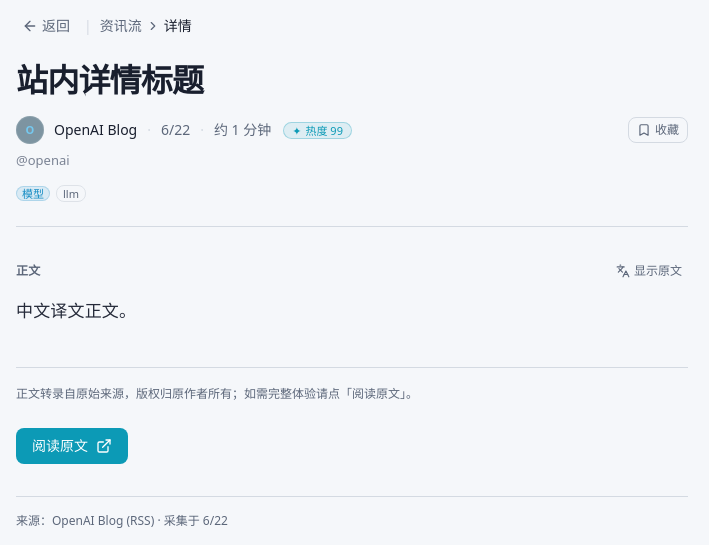
Test case: ItemDetailPage › toggles a full body between the translation and the original content
Check: the text "中文译文正文。" is shown, box x1=16 y1=299 x2=136 y2=322
Check: the text "The original English body." is not shown
Click the button with test id "translation-toggle" at coordinates (649, 271), box x1=610 y1=259 x2=688 y2=283
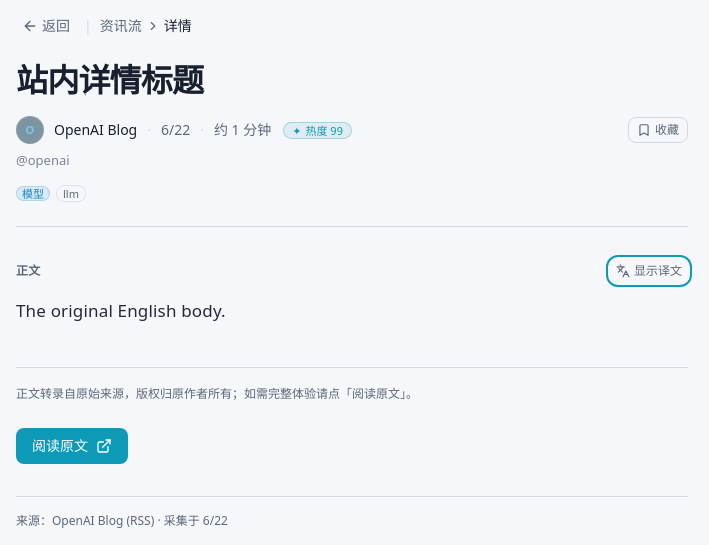
Check: the text "The original English body." is shown, box x1=16 y1=299 x2=226 y2=322
